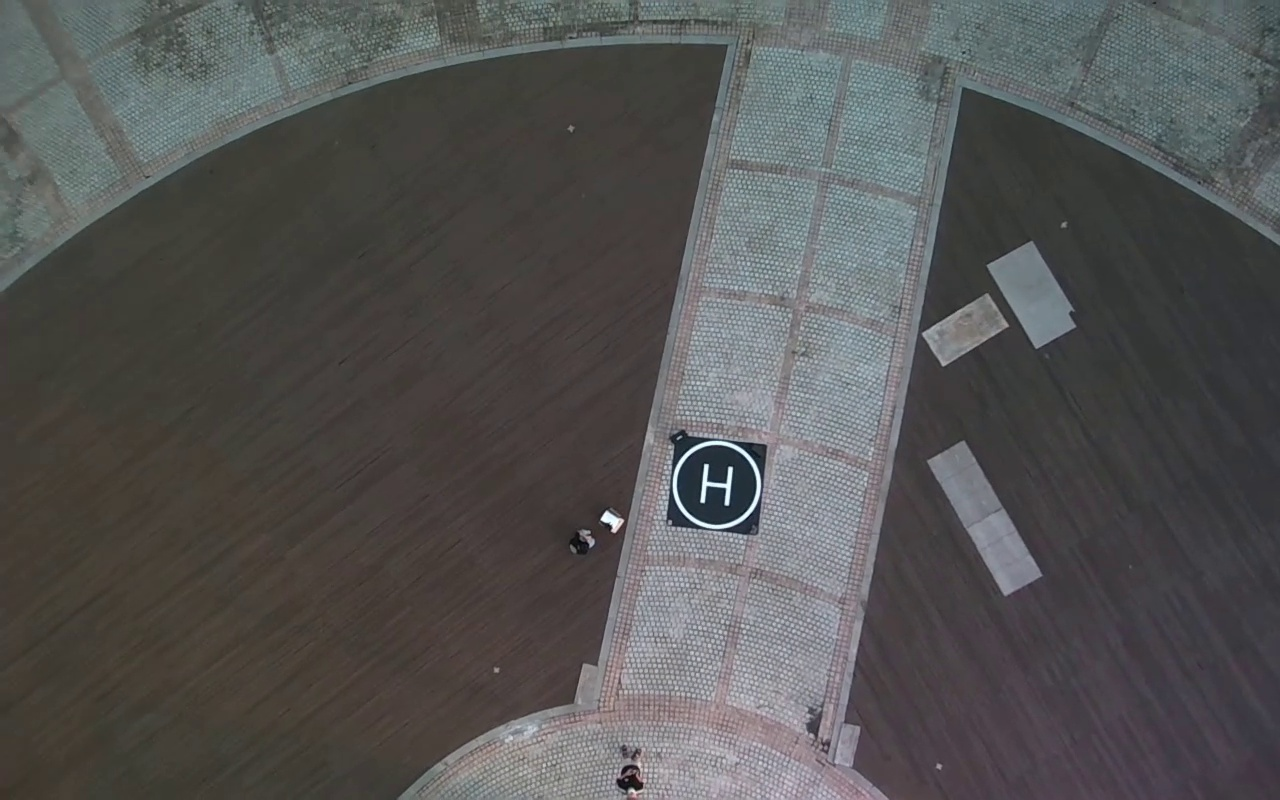H: (699, 463, 734, 508)
heliport: (673, 440, 763, 529)
